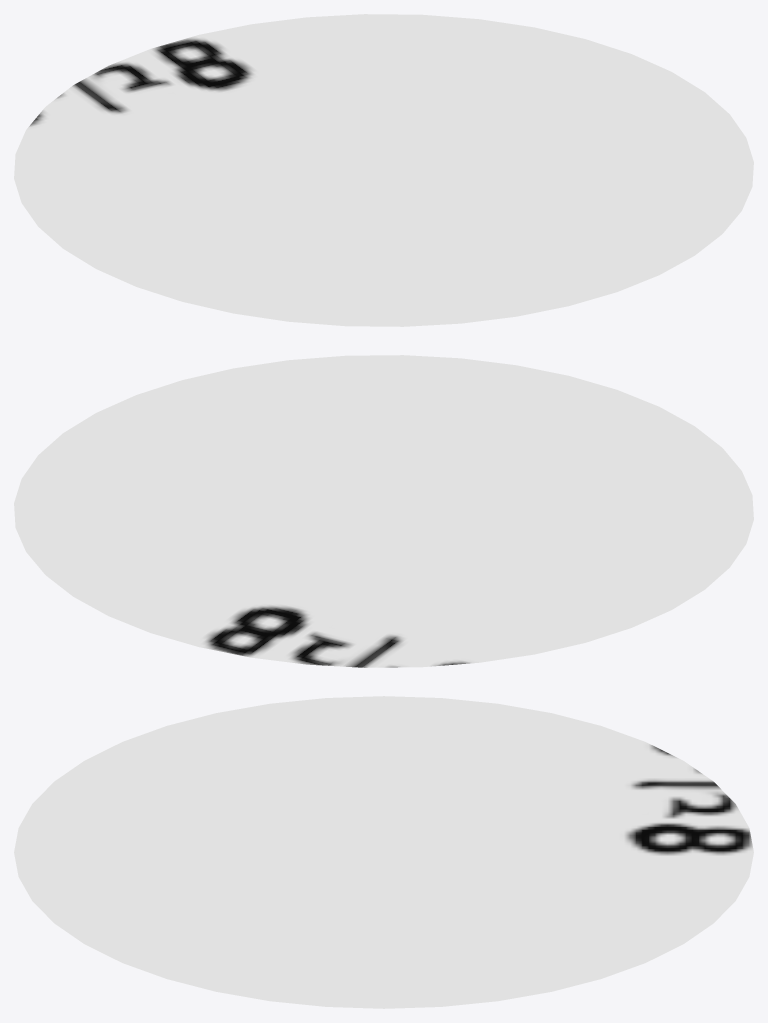
File: pollution00.dae
The picture shows the model from 3 angles, top to bottom: view 1: azimuth 30°, elevation 25°; view 2: azimuth 150°, elevation 25°; view 3: azimuth 270°, elevation 25°; orthographic projection.
Parts seen in each view (by area): view 1: m0; view 2: m0; view 3: m0.
Part boxes in pixels (x1,y1,x2,y2): m0: (14, 14, 753, 326); m0: (14, 355, 753, 667); m0: (14, 696, 753, 1008).
Bounding box in the file's own units: 3800 × 0 × 3800.
